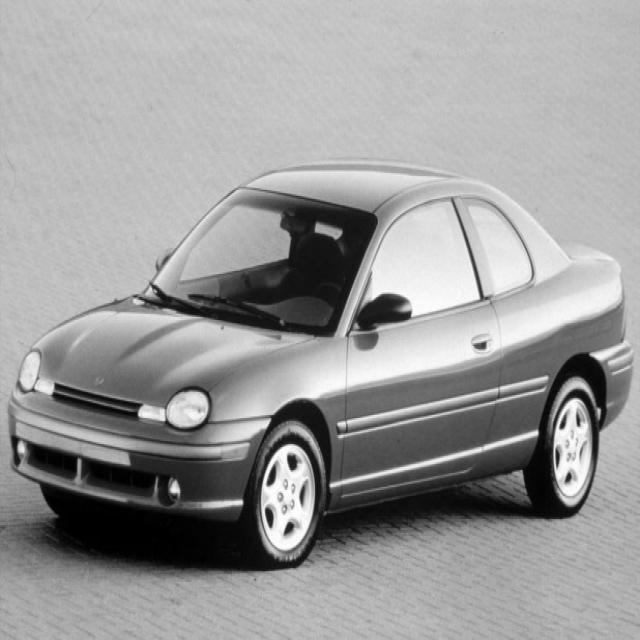car: (7, 158, 634, 568)
